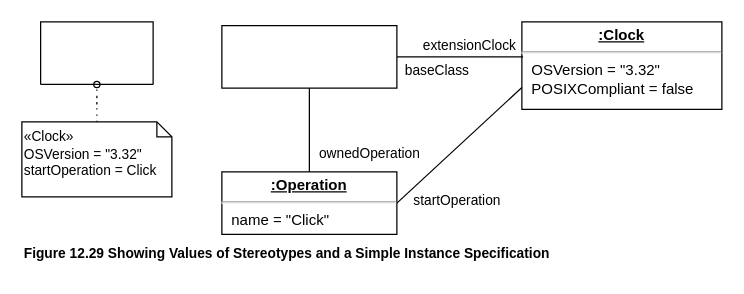
Image size: 744x294. Some labels were removed from this diagram. Each missing label, with the box of its shape:
:Class name = "Stopwatch": (221, 24, 397, 88)
«Clock» StopWatch: (39, 21, 153, 84)
